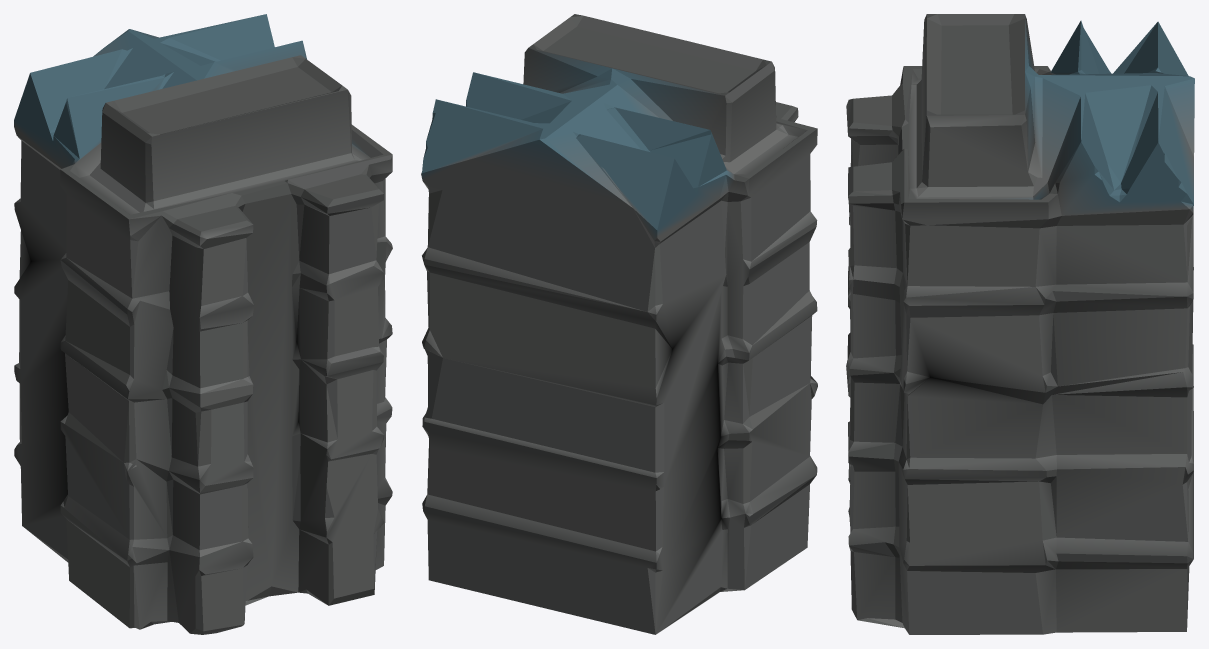
File: Apartment Buildings(5).glb
The picture shows the model from 3 angles, left to right: view 1: azimuth 30°, elevation 25°; view 2: azimuth 150°, elevation 25°; view 3: azimuth 270°, elevation 25°; orthographic projection. The views are drawn at different scales.
Parts seen in each view (by area): view 1: Root; view 2: Root; view 3: Root.
Part boxes in pixels (x1=…): Root: x1=14, y1=14, x2=392, y2=634; Root: x1=421, y1=14, x2=817, y2=634; Root: x1=846, y1=14, x2=1194, y2=634.
Bounding box in the file's own units: 11.57 × 20.02 × 12.44.
